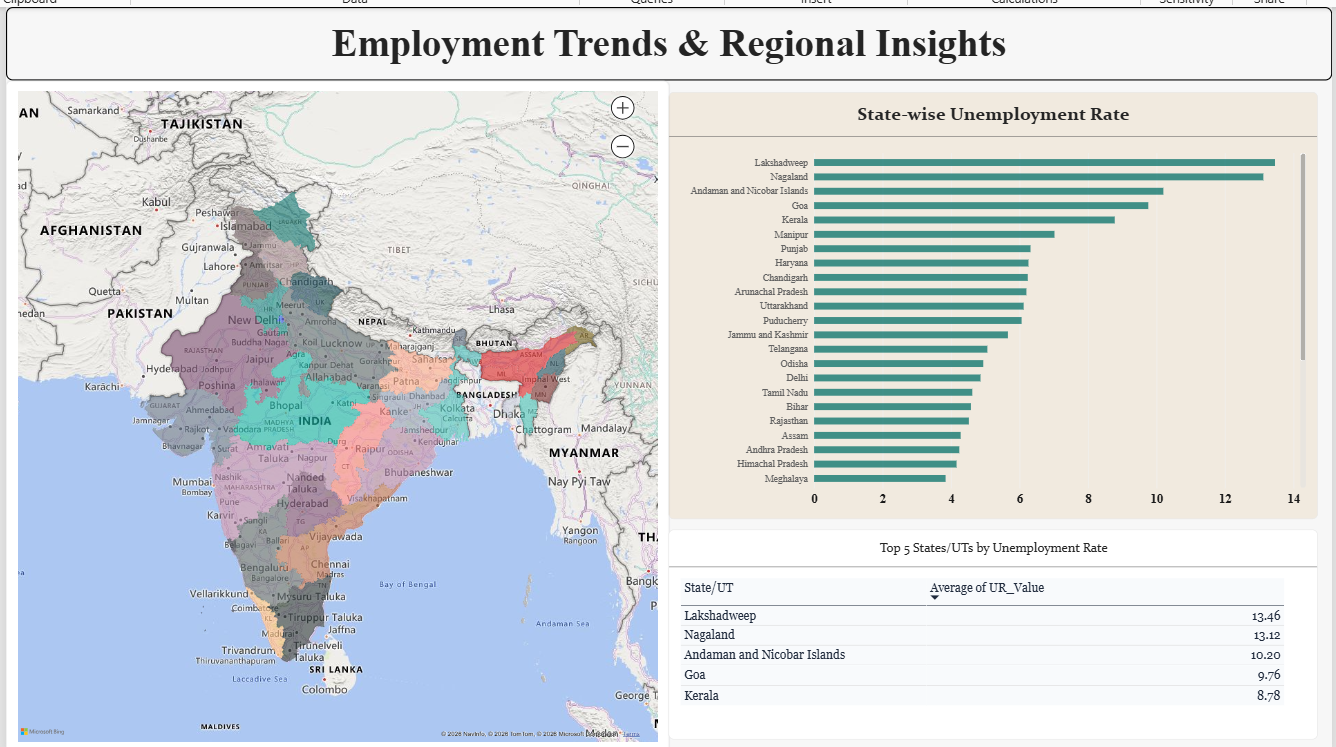

Layout of this report page (visuals, bound fields, positions):
{"tool":"powerbi","page":{"name":"Page 3","canvas":[1920,1080],"ordinal":2},"visuals":[{"type":"textbox","box":[0,0,1920.1,106.8],"z":0},{"type":"filledMap","fields":{"Category":["yearwise.State/UT"],"Series":["yearwise.UR_Value"]},"box":[0,106,960,974],"z":1000},{"type":"clusteredBarChart","title":"State-wise Unemployment Rate","fields":{"Category":["yearwise.State/UT"],"Y":["Avg(yearwise.UR_Value)"]},"box":[960,123.6,940,618.2],"z":2000},{"type":"tableEx","title":"Top 5 States/UTs by Unemployment Rate","fields":{"Values":["yearwise.State/UT","Avg(yearwise.UR_Value)"]},"box":[960,756.4,940,303.6],"z":3000}]}

Visuals, with their boxes on the page's 1920x1080 design canvas (x1, y1, x2, y2). These are canvas units, not pixel positions in the 1336x747 screenshot, which may show the page scaled, cropped or inside an application window:
textbox: (x1=0, y1=0, x2=1920, y2=107)
filledMap - yearwise.State/UT x yearwise.UR_Value: (x1=0, y1=106, x2=960, y2=1080)
"State-wise Unemployment Rate" clusteredBarChart: (x1=960, y1=124, x2=1900, y2=742)
"Top 5 States/UTs by Unemployment Rate" tableEx: (x1=960, y1=756, x2=1900, y2=1060)
